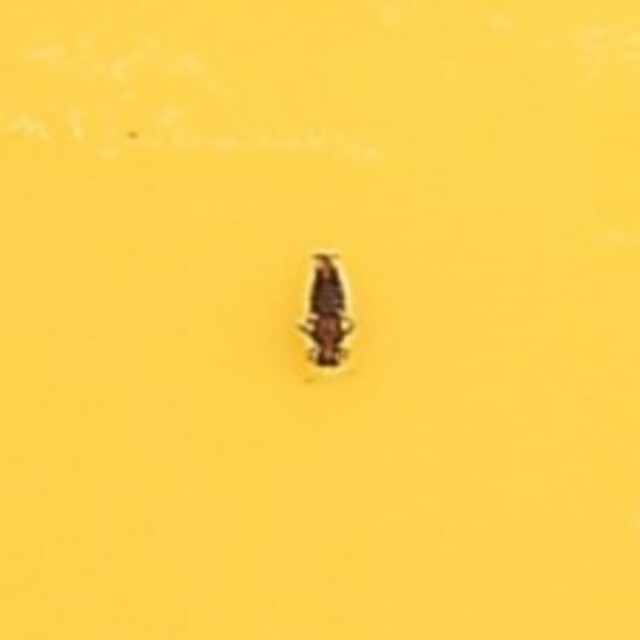Hemiptera: (284, 250, 356, 390)
